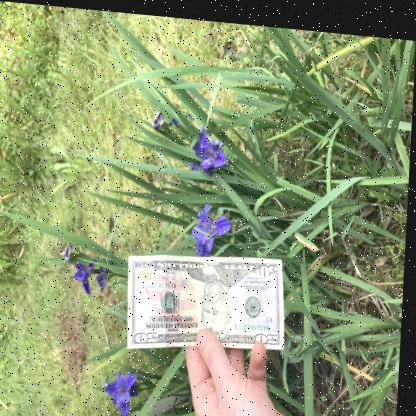fifty-front: (131, 251, 288, 345)
